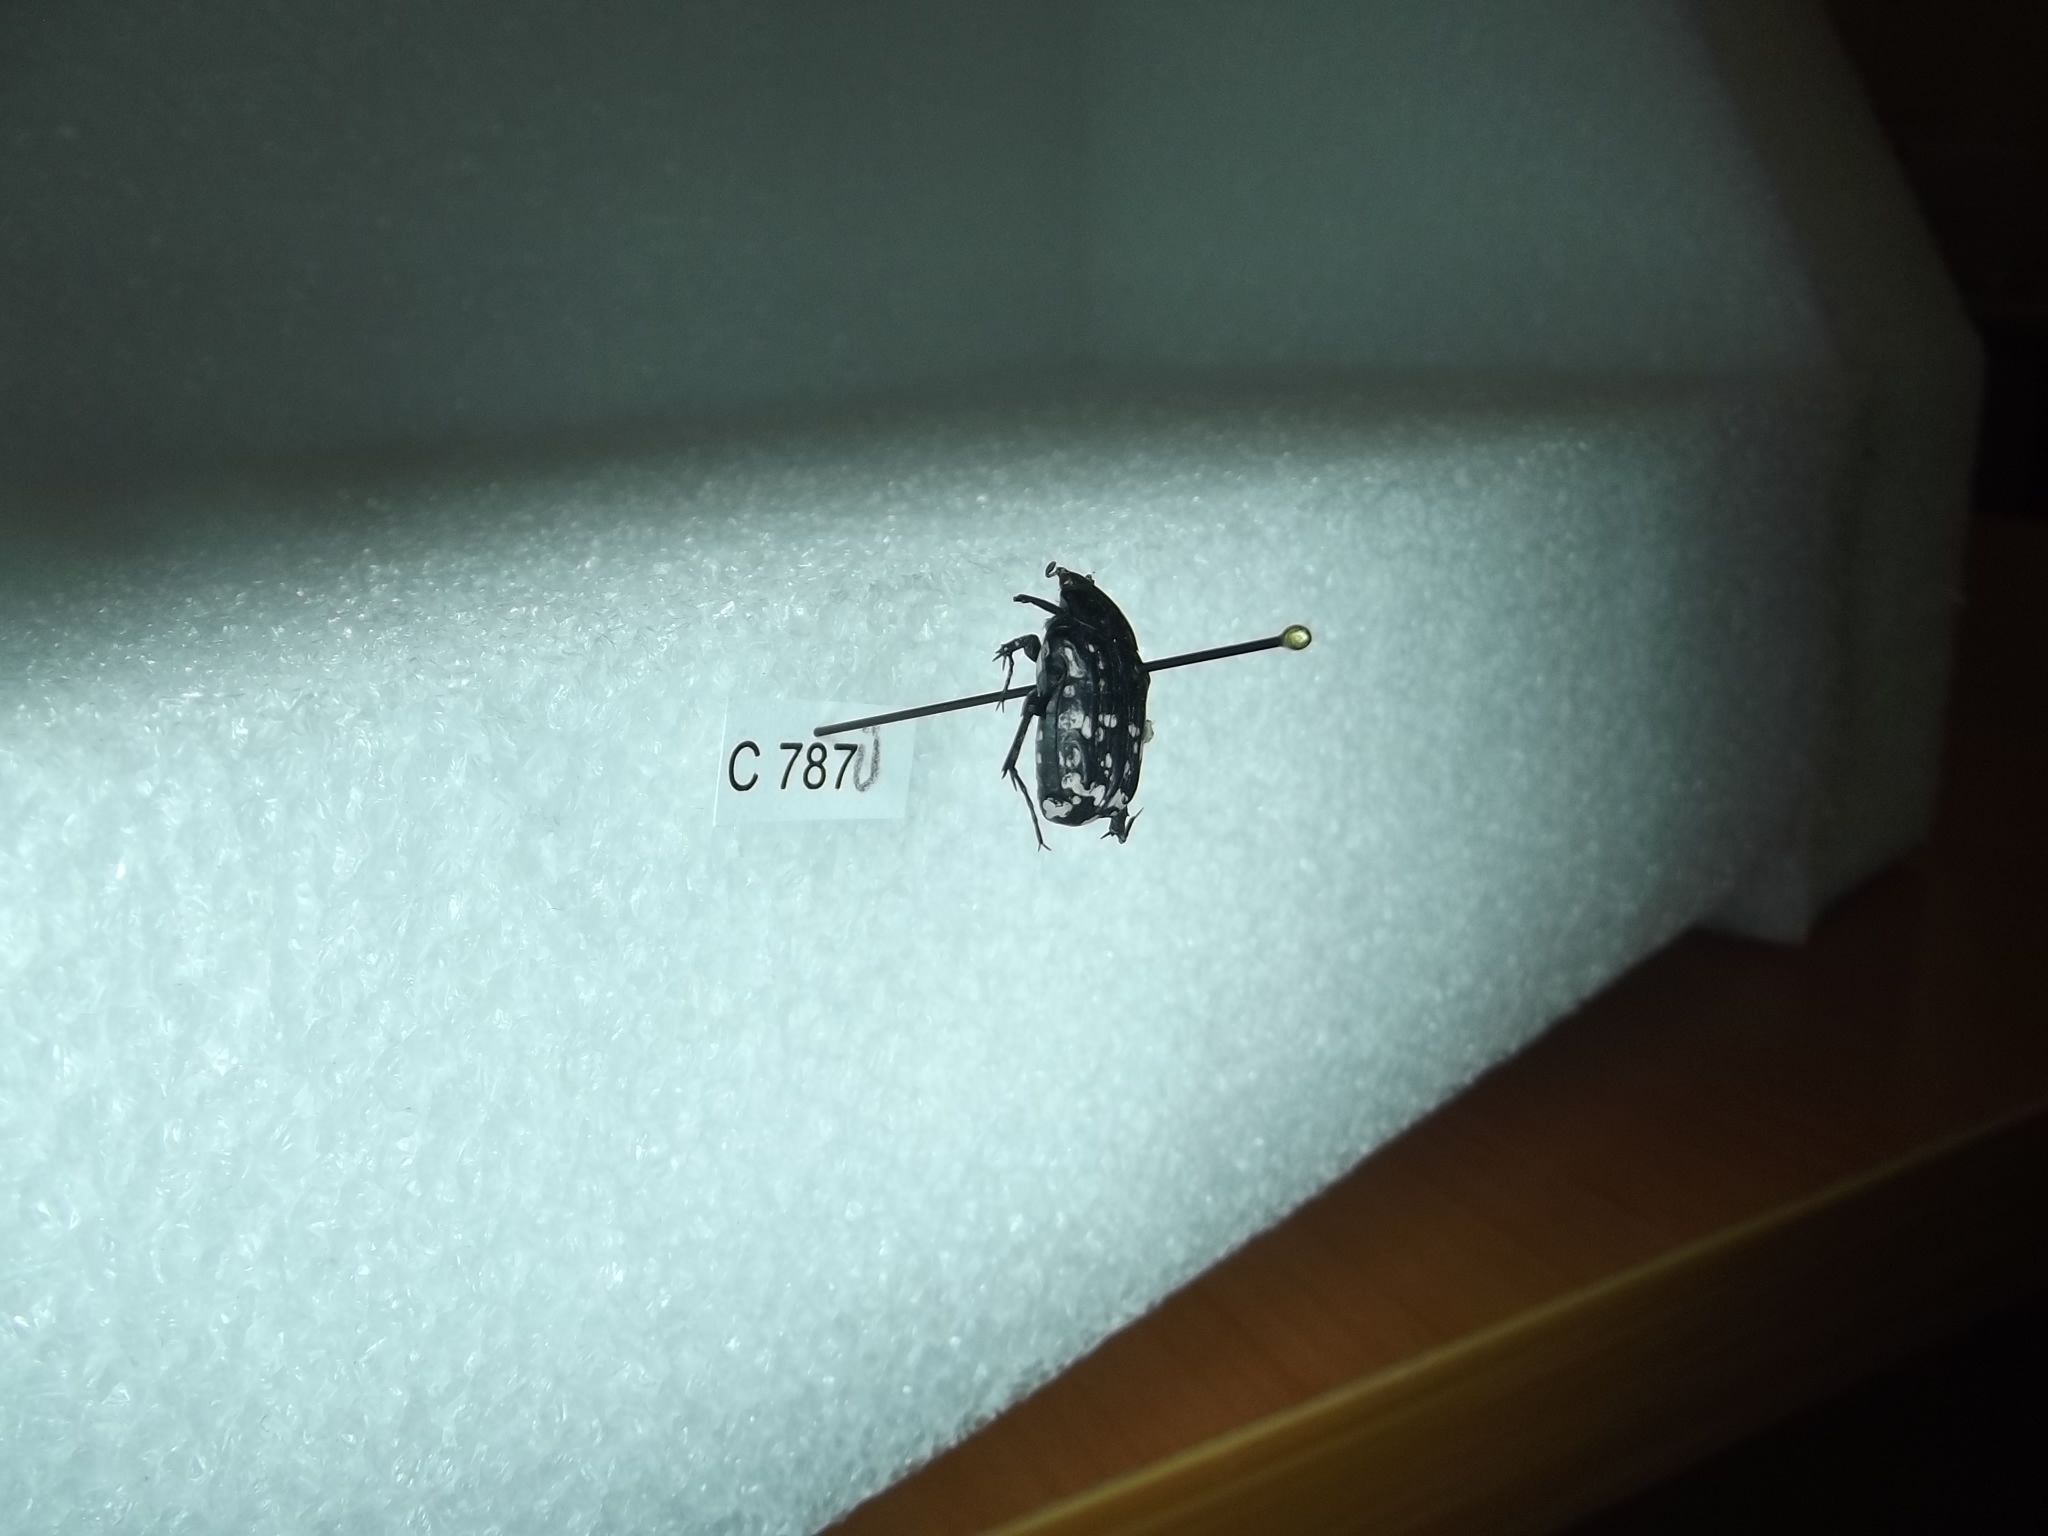Oxythyrea_albopicta: (993, 539, 1163, 865)
